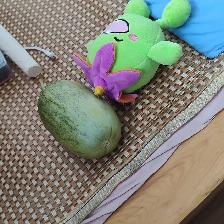gua: (33, 84, 122, 153)
